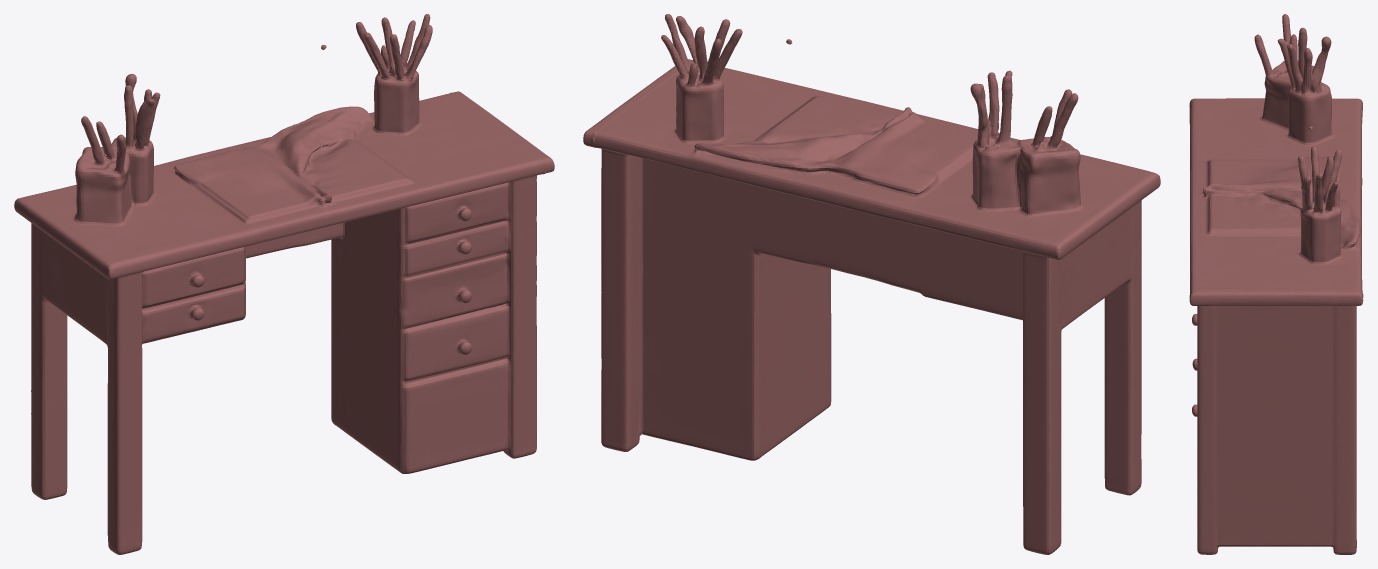
The picture shows the model from 3 angles, left to right: view 1: azimuth 30°, elevation 25°; view 2: azimuth 150°, elevation 25°; view 3: azimuth 270°, elevation 25°; orthographic projection. The views are drawn at different scales.
Visible parts, largest first — view 1: world; view 2: world; view 3: world.
Part boxes in pixels (x1,y1,x2,y2): world: (14,14,554,554); world: (583,14,1160,554); world: (1189,14,1363,554).
Bounding box in the file's own units: 1.96 × 1.73 × 0.7314.
